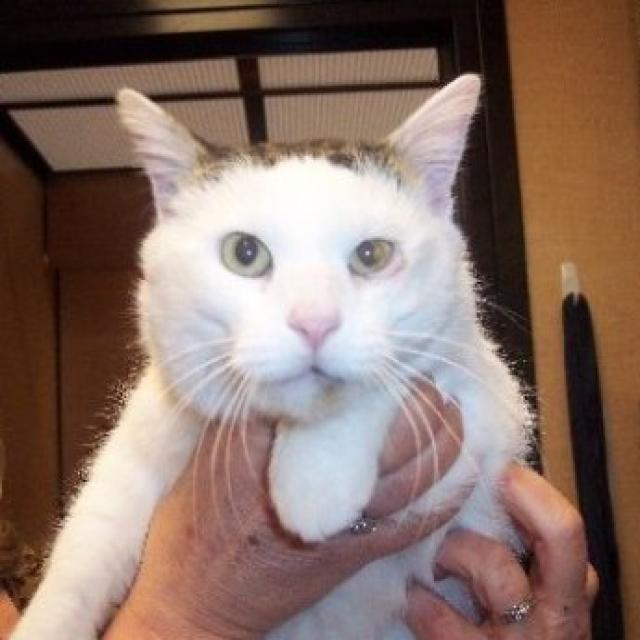Cats: (0, 69, 544, 638)
